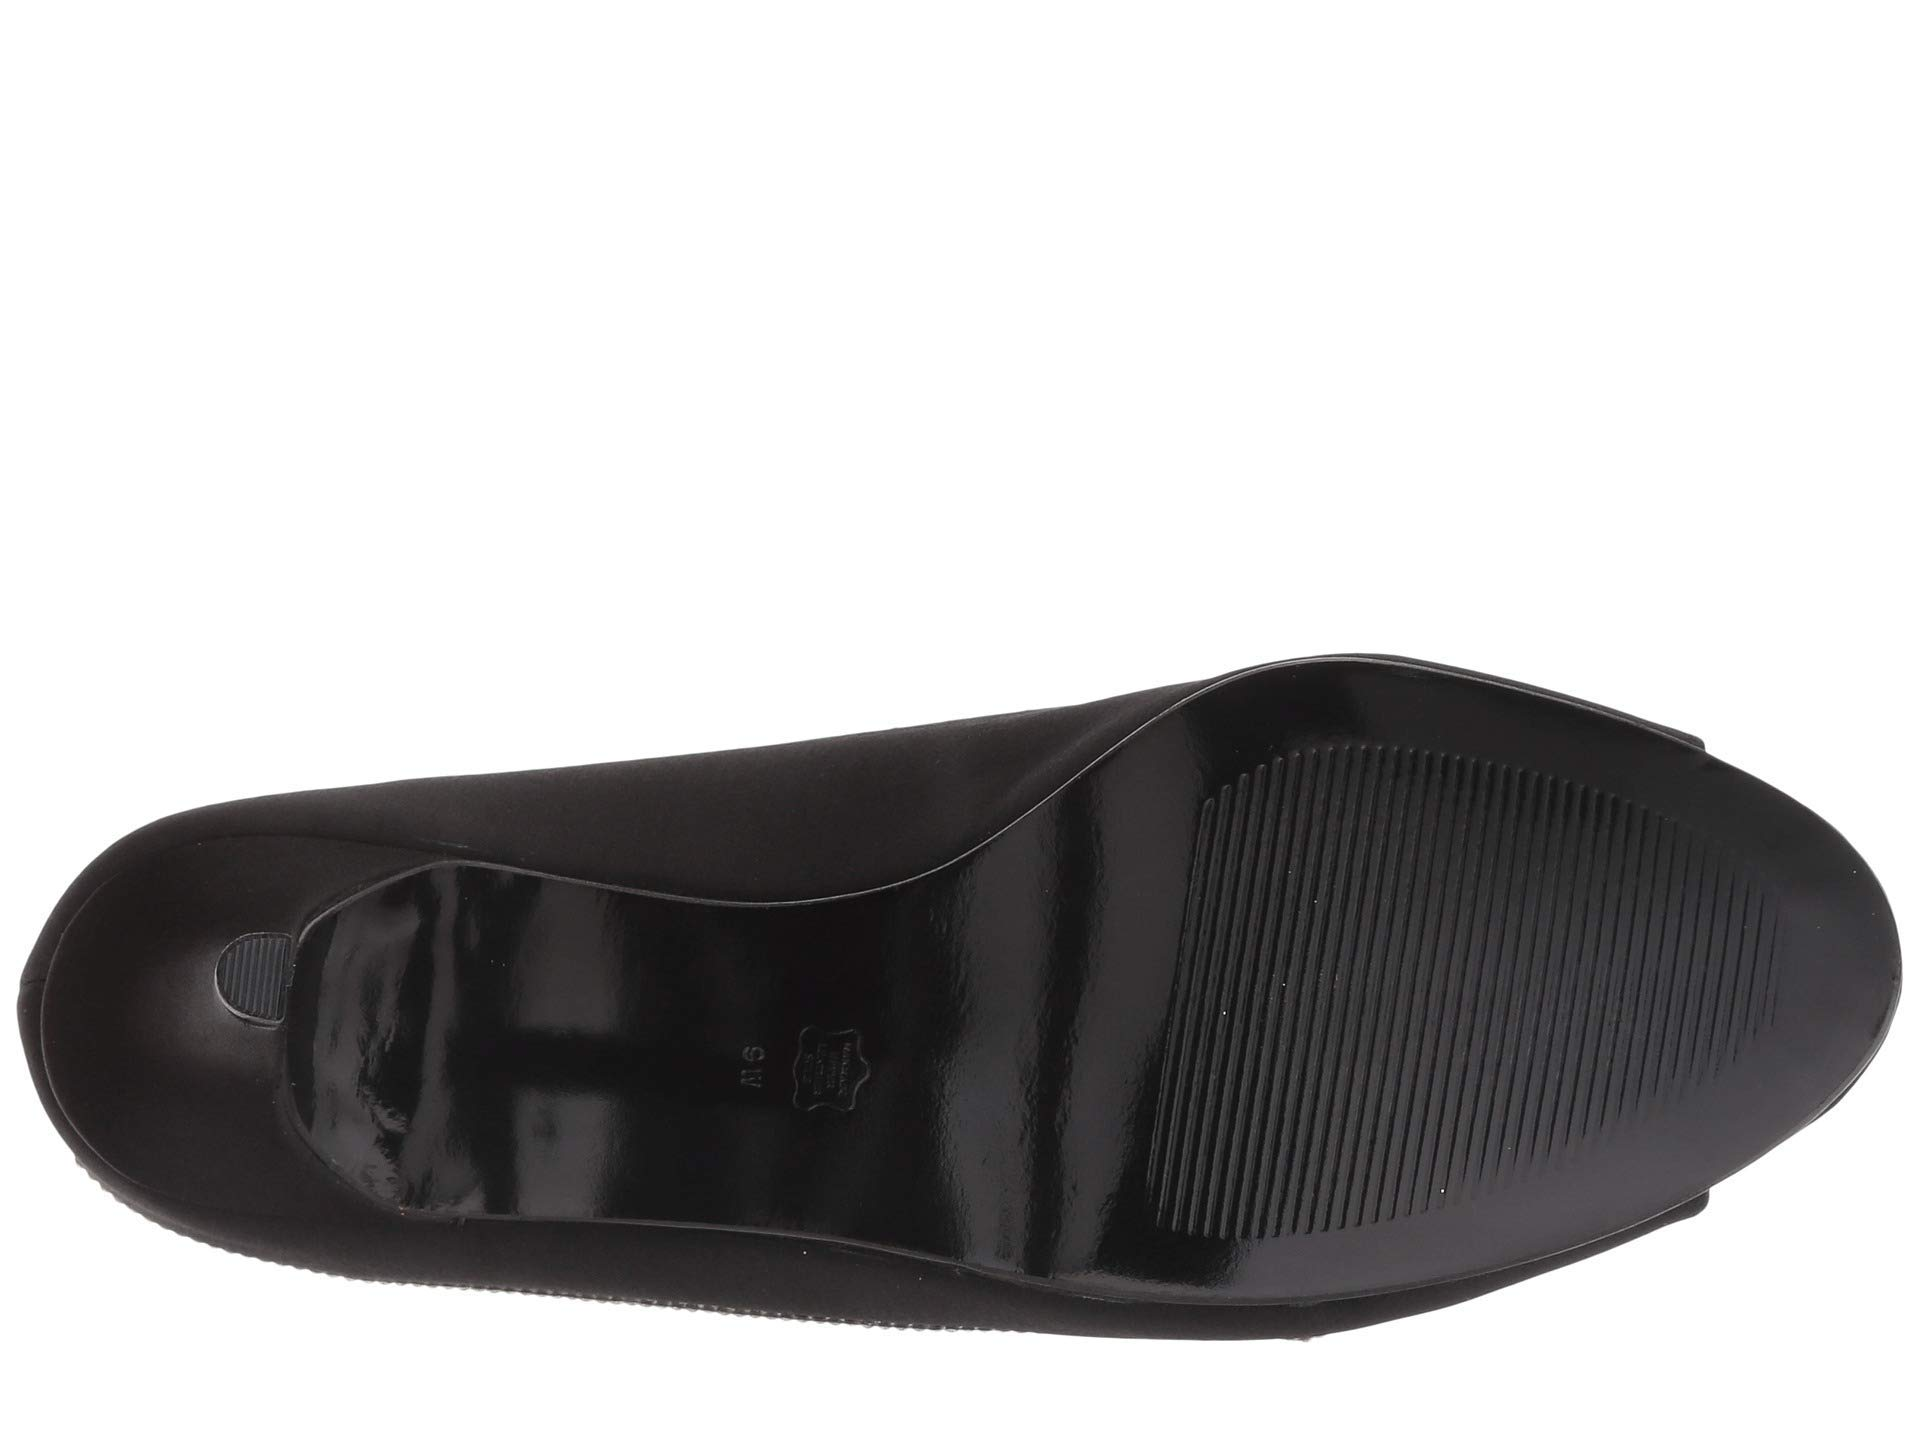line: (1261, 781, 1593, 1141)
